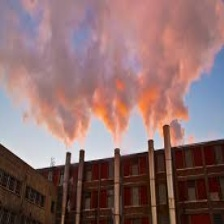smoke: (1, 1, 222, 142)
